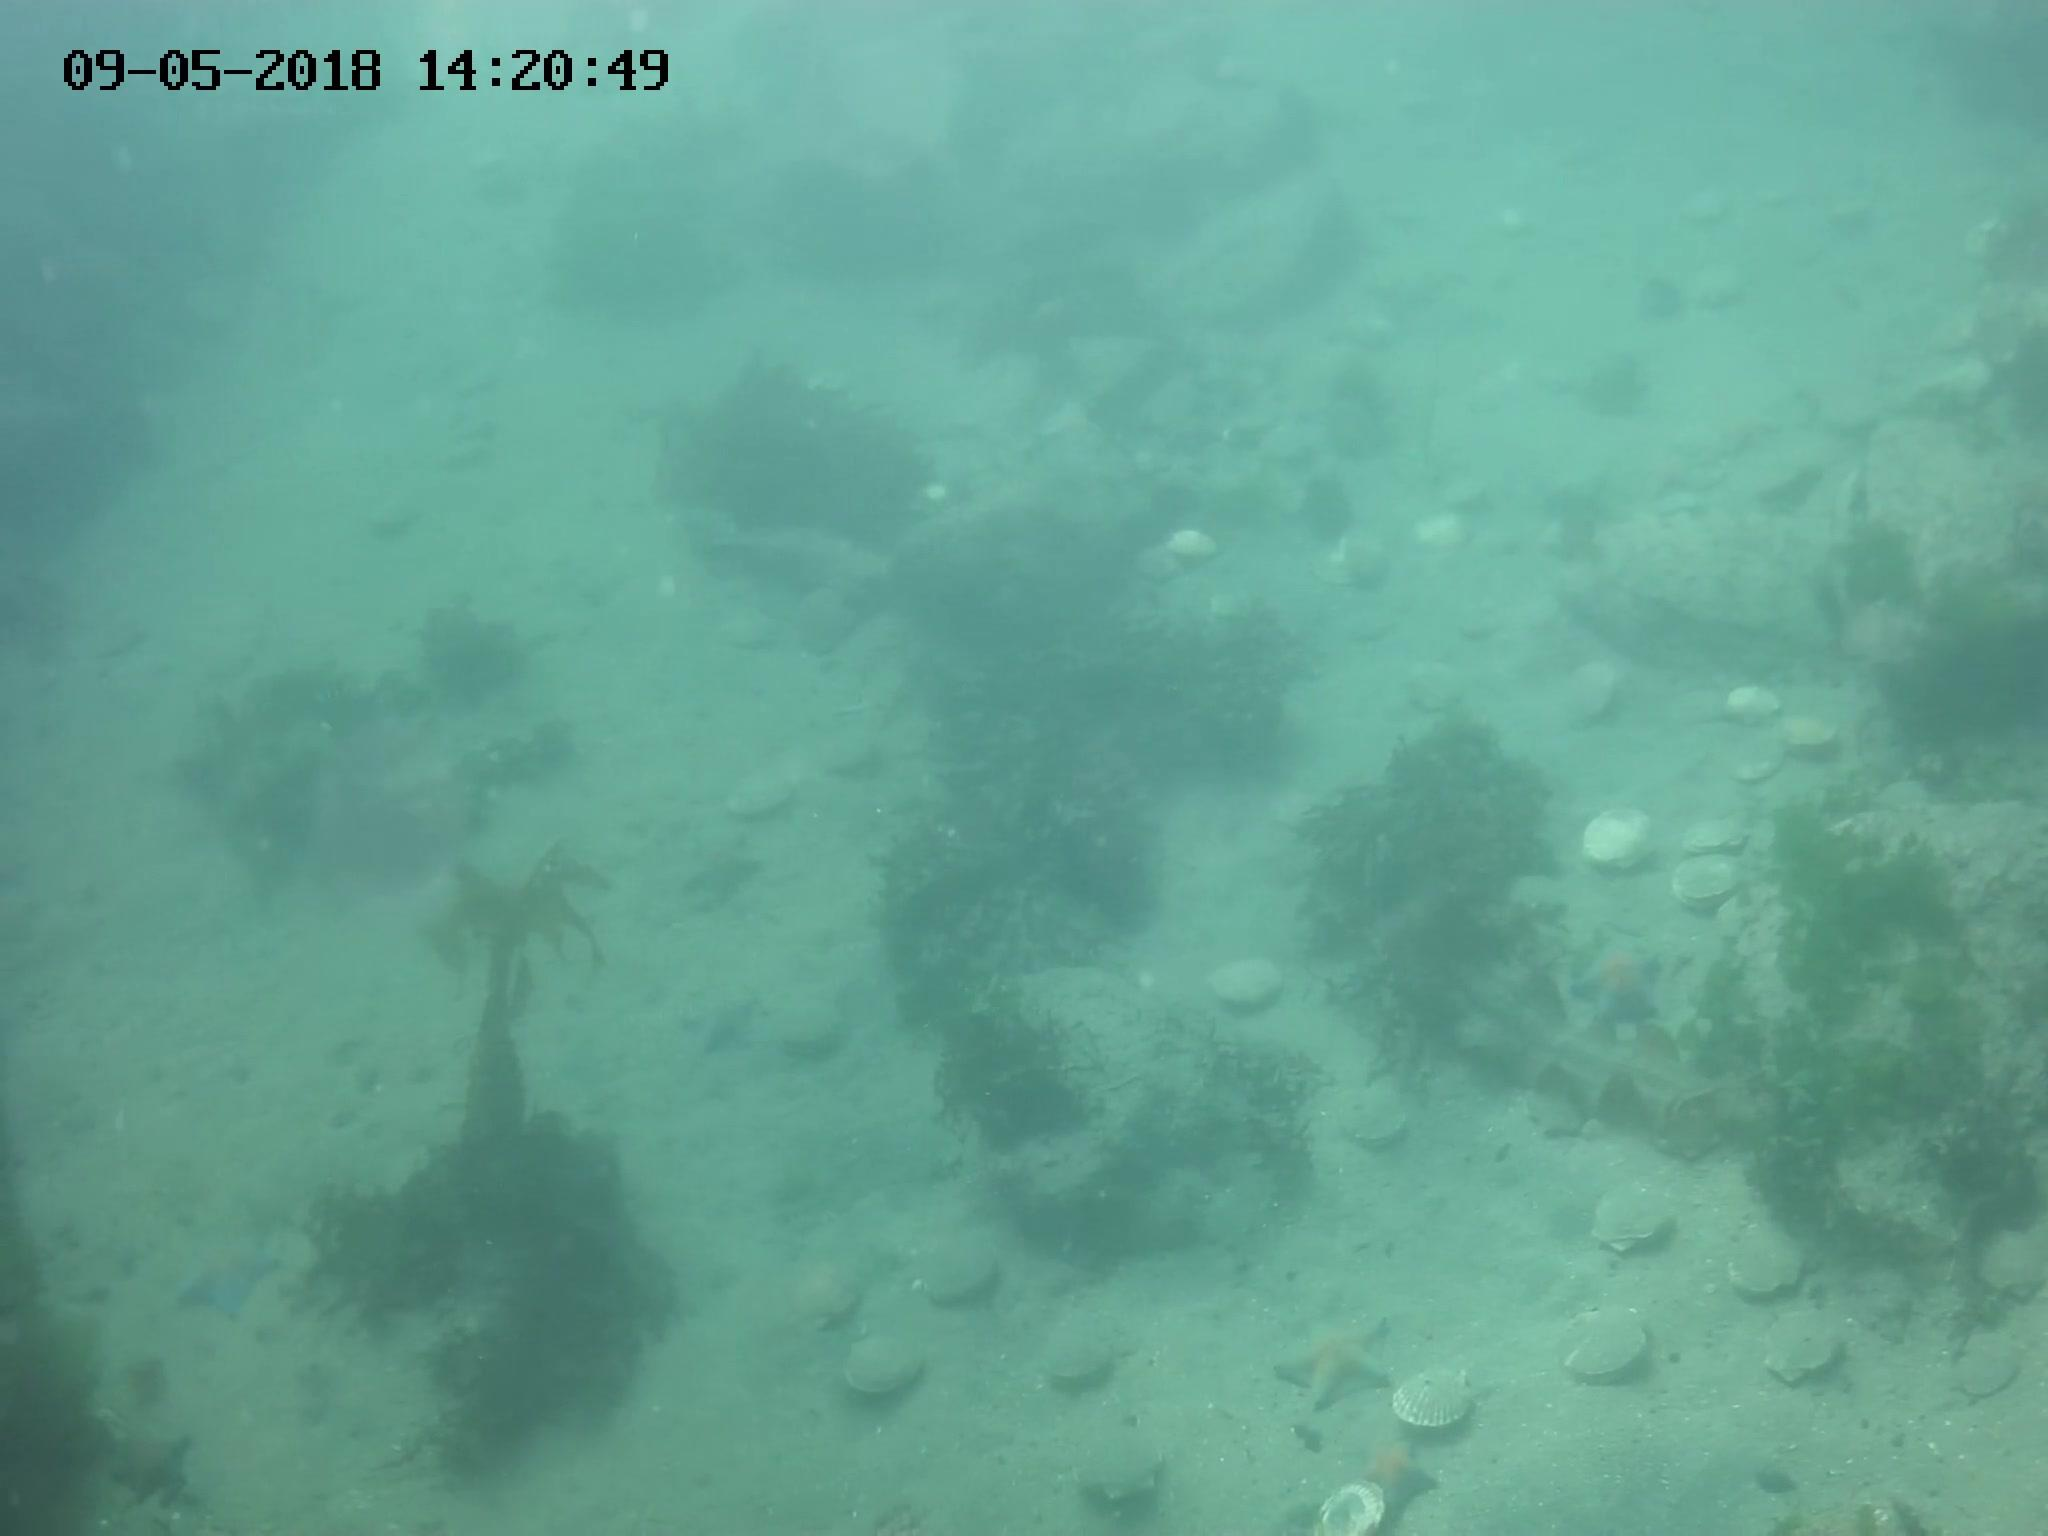scallop: (1556, 1305, 1653, 1388), (1758, 1305, 1854, 1383), (1068, 1438, 1171, 1509), (1722, 1234, 1817, 1305), (1588, 1189, 1684, 1257), (1388, 1367, 1479, 1433), (1580, 805, 1663, 874), (782, 1271, 861, 1342), (776, 994, 853, 1062), (843, 1334, 927, 1396), (1206, 954, 1288, 1013), (1983, 1228, 2048, 1304), (1669, 855, 1750, 915), (1963, 1320, 2022, 1400), (1337, 1094, 1417, 1152), (1316, 1470, 1385, 1536), (1559, 658, 1621, 731), (1522, 1084, 1598, 1142), (927, 1252, 1001, 1309), (1680, 810, 1755, 858), (1042, 1341, 1114, 1386), (1774, 715, 1843, 760), (1725, 678, 1787, 724), (1166, 523, 1227, 566), (1414, 516, 1471, 553)
starfish: (1271, 1307, 1411, 1421), (1571, 929, 1671, 1039), (163, 1241, 282, 1326), (106, 1423, 206, 1512), (1363, 1433, 1443, 1531), (676, 979, 768, 1062), (681, 831, 764, 904)
